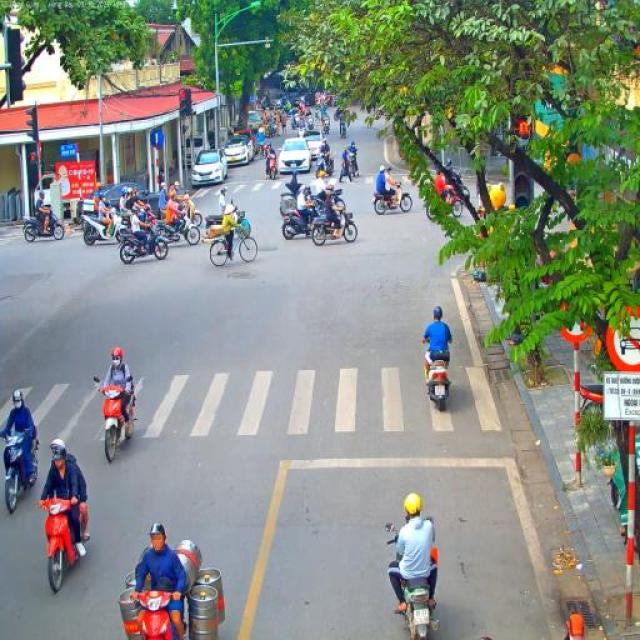bus: (531, 72, 594, 164)
car: (80, 181, 150, 220), (276, 136, 312, 176), (192, 148, 228, 187), (222, 134, 254, 168), (302, 129, 323, 165), (234, 130, 257, 160), (292, 92, 316, 111), (271, 92, 295, 110), (248, 110, 264, 135)
motorcycle: (118, 540, 226, 640), (384, 520, 442, 640), (40, 486, 80, 594), (93, 377, 137, 462), (0, 427, 41, 513), (116, 226, 170, 264), (202, 199, 252, 240), (280, 200, 330, 240), (149, 212, 202, 248), (576, 381, 604, 443), (311, 211, 358, 247), (81, 208, 124, 247), (424, 353, 452, 412), (24, 206, 64, 244), (426, 184, 470, 218), (372, 180, 413, 215), (168, 192, 203, 227), (278, 184, 312, 218), (324, 181, 347, 214), (262, 154, 280, 181), (316, 152, 336, 176), (343, 152, 359, 178), (256, 140, 266, 160), (296, 120, 306, 138), (339, 119, 347, 139), (288, 117, 298, 131), (322, 118, 330, 134), (306, 117, 314, 131)
truck: (262, 80, 283, 102)
